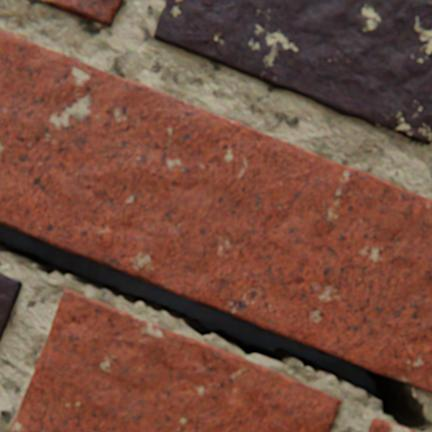brick: (0, 30, 431, 392), (10, 289, 339, 431), (154, 0, 431, 145), (36, 0, 123, 28), (0, 272, 22, 340), (367, 418, 414, 431)
crack: (0, 223, 431, 431)
